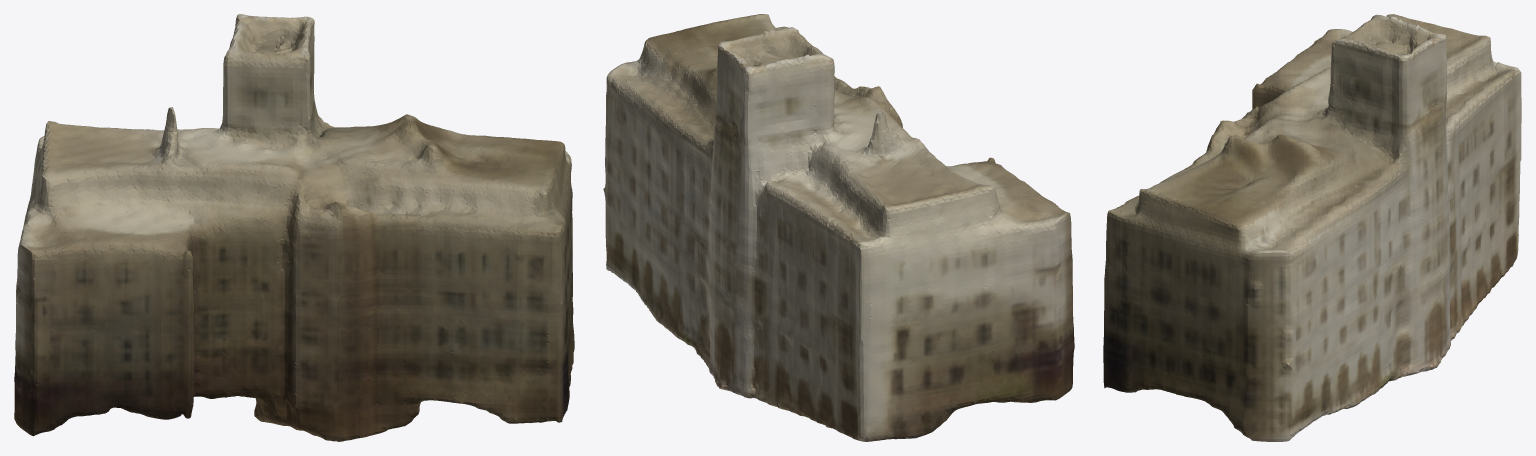
File: tetuan.glb
3 views of the same model, side by side, from view 1: azimuth 30°, elevation 25°; view 2: azimuth 150°, elevation 25°; view 3: azimuth 270°, elevation 25° (orthographic). The views are drawn at different scales.
Parts seen in each view (by area): view 1: world; view 2: world; view 3: world.
Part boxes in pixels (x1,y1,x2,y2): world: (14,14,574,441); world: (603,14,1074,441); world: (1103,14,1521,441).
Size of the model in its own units: 2 by 1.3 by 1.53.
